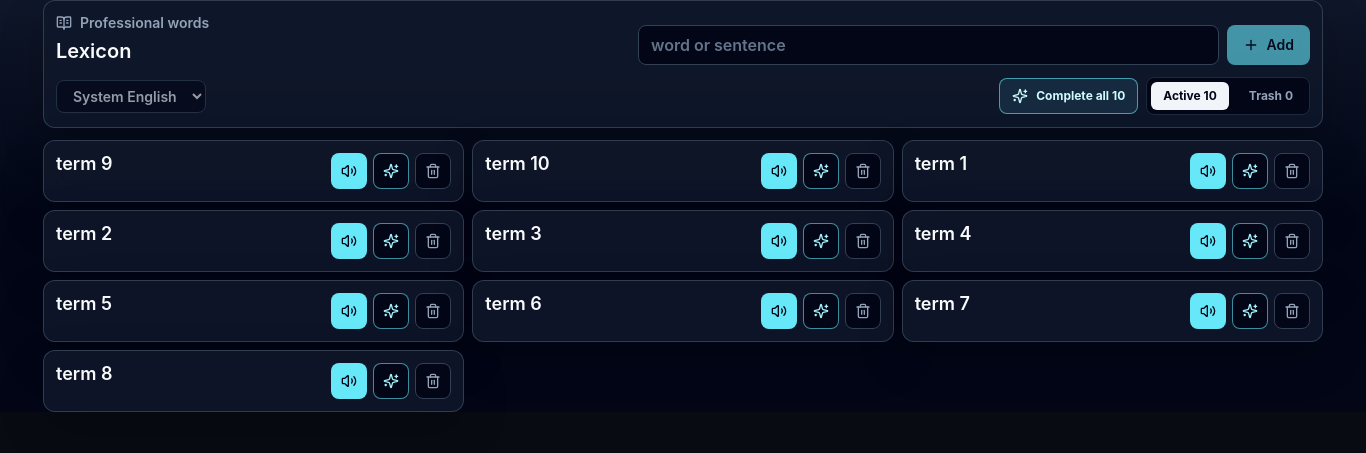
Test case: LexiconPage online enrichment › completes every missing card with one batch action
The image size is (1366, 453).
Click the button named "Complete all missing lexicon notes" at (1069, 96), box [999,78,1138,114]
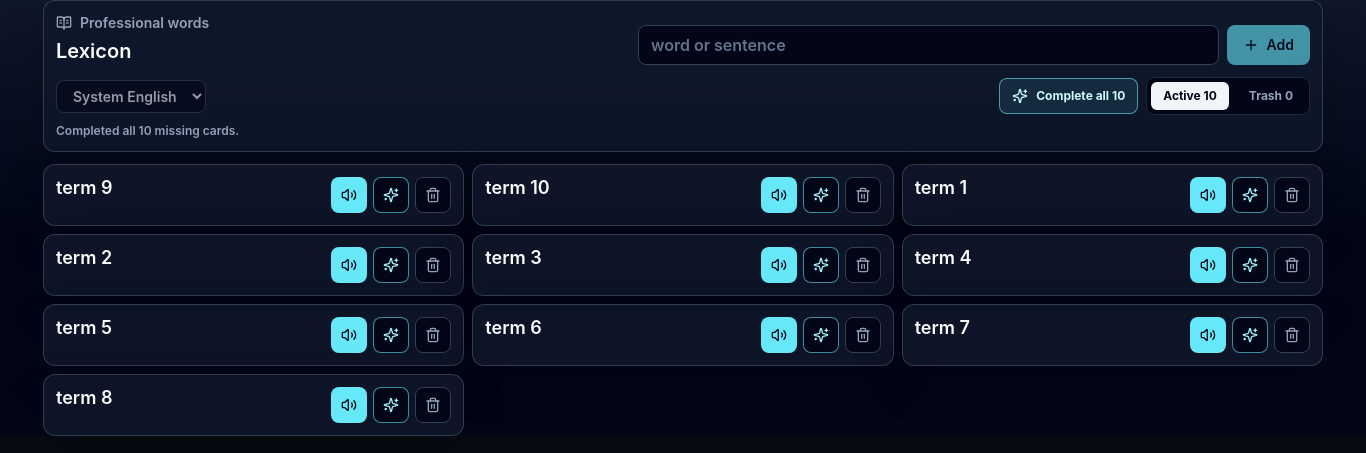
Expected: the message reads "Completed all 10 missing cards.", [56,123,239,138]
